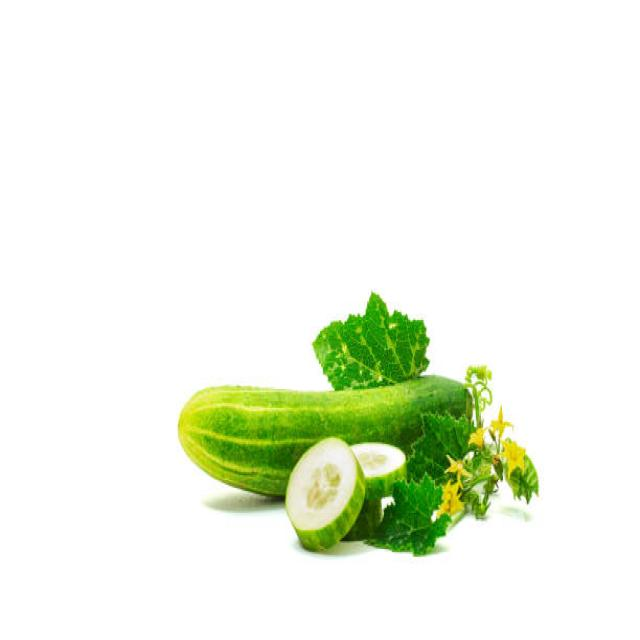cucumber: (180, 374, 473, 498)
